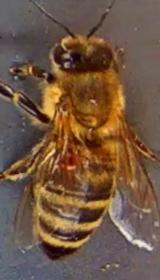varroa_mite: (50, 146, 84, 174)
